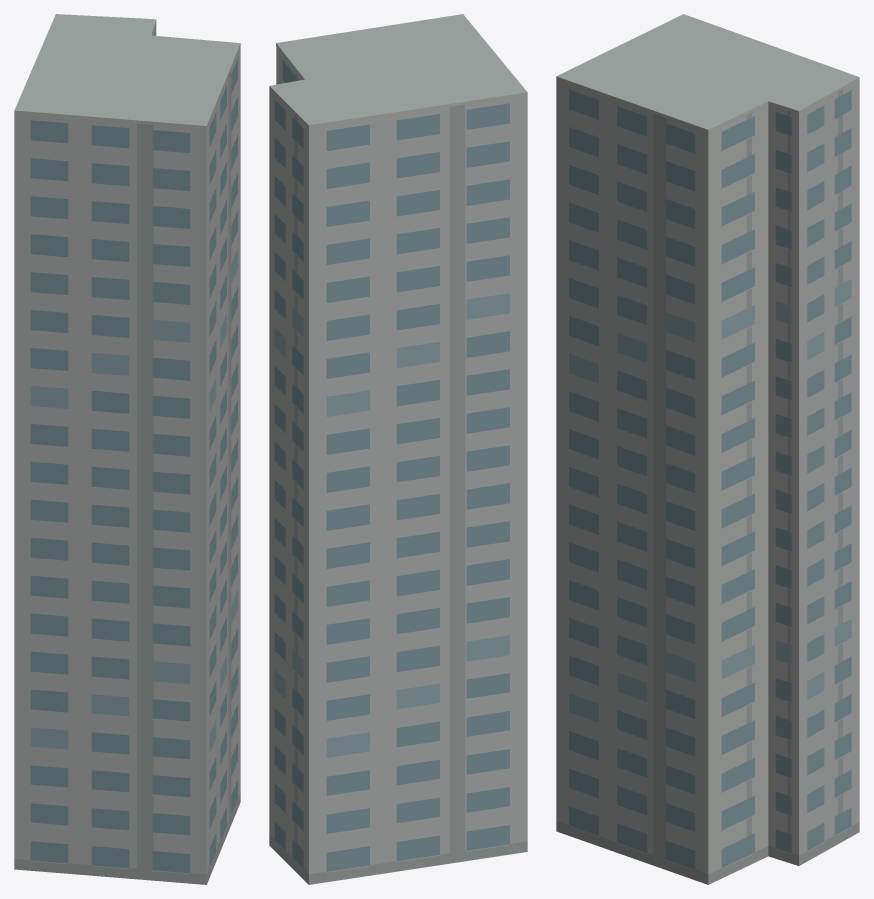
Rendered from survey-upis-32506296.glb.
The picture shows the model from 3 angles, left to right: view 1: azimuth 30°, elevation 25°; view 2: azimuth 150°, elevation 25°; view 3: azimuth 270°, elevation 25°; orthographic projection.
Visible parts, largest first — view 1: survey-upis-32506296.tmp; view 2: survey-upis-32506296.tmp; view 3: survey-upis-32506296.tmp.
Part boxes in pixels (<box>): survey-upis-32506296.tmp: <box>14,14,240,884</box>; survey-upis-32506296.tmp: <box>269,14,527,884</box>; survey-upis-32506296.tmp: <box>556,14,859,884</box>.
Size of the model in its own units: 20.09 by 61 by 22.22.
